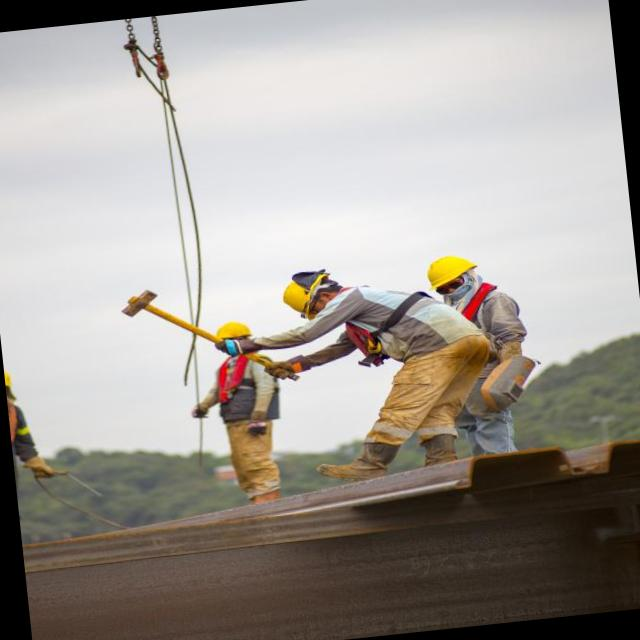Gloves: (266, 357, 315, 383), (214, 336, 258, 356), (244, 410, 272, 434), (190, 400, 217, 418)
Helmet: (278, 270, 326, 323), (424, 254, 474, 292)
